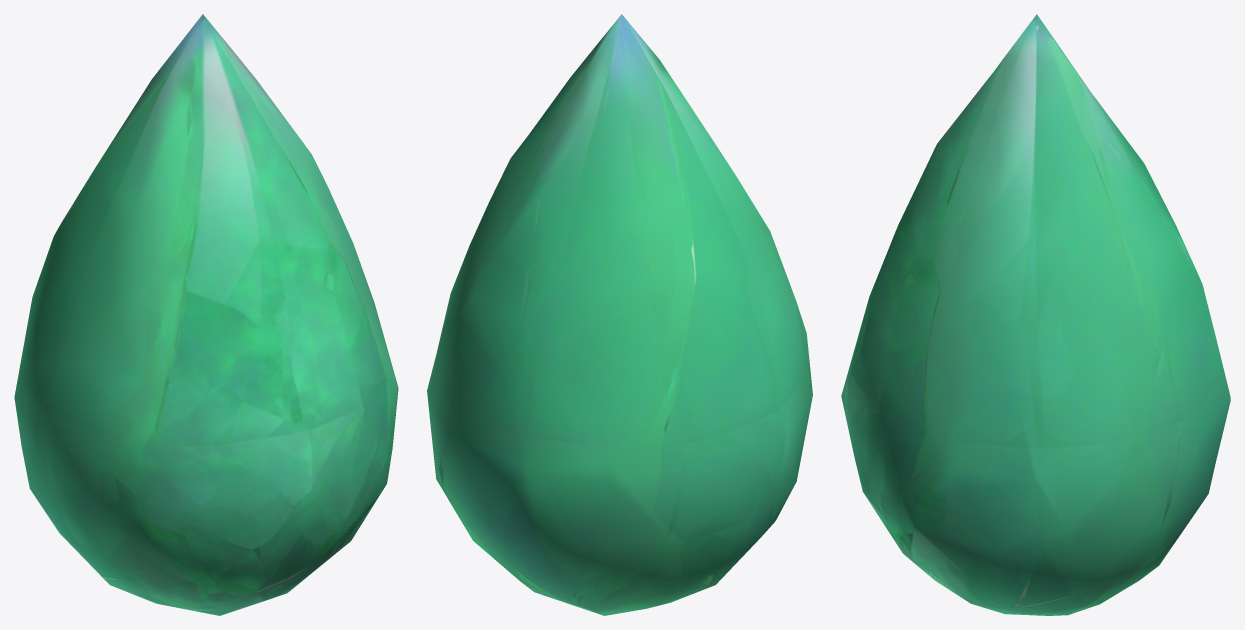
The model's file is Emerald_Teardrop_0727031046_texture.fbx.
3 renders of one model, left to right at view 1: azimuth 30°, elevation 25°; view 2: azimuth 150°, elevation 25°; view 3: azimuth 270°, elevation 25°, orthographic.
Visible parts, largest first — view 1: Mesh_0; view 2: Mesh_0; view 3: Mesh_0.
Part boxes in pixels (bbox=[...]): Mesh_0: bbox=[14, 14, 398, 615]; Mesh_0: bbox=[427, 14, 812, 615]; Mesh_0: bbox=[841, 14, 1230, 615].
Bounding box in the file's own units: 119 × 201 × 120.
Materials: 1 (1 with a texture image).
